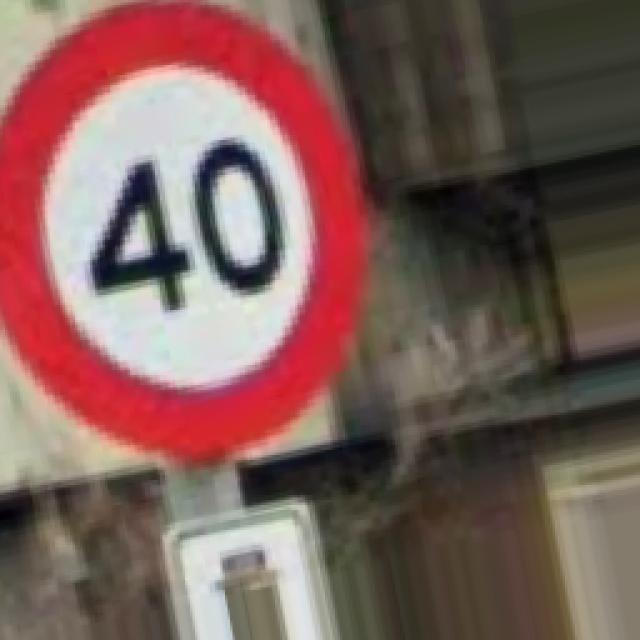Speed Limit -40-: (0, 2, 365, 460)
